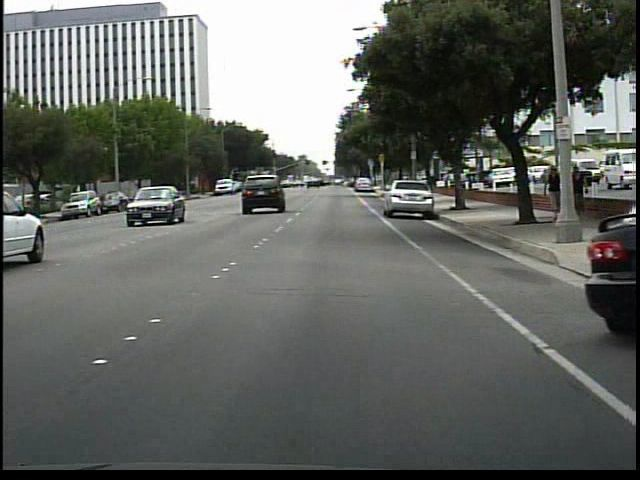person: (568, 159, 589, 221), (541, 160, 561, 224)
